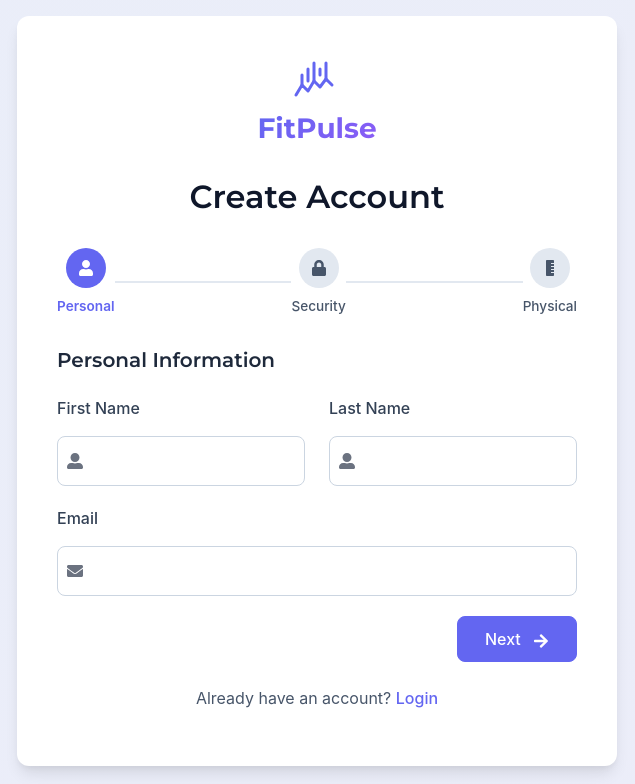
Test case: Register Component › shows password validation error when passwords don't match
The image size is (635, 784).
Note: Fill out step 1
In the field labelled "First Name": [181, 461] box [57,436,305,486], type "John"
In the field labelled "Last Name": [453, 461] box [329,436,577,486], type "Doe"
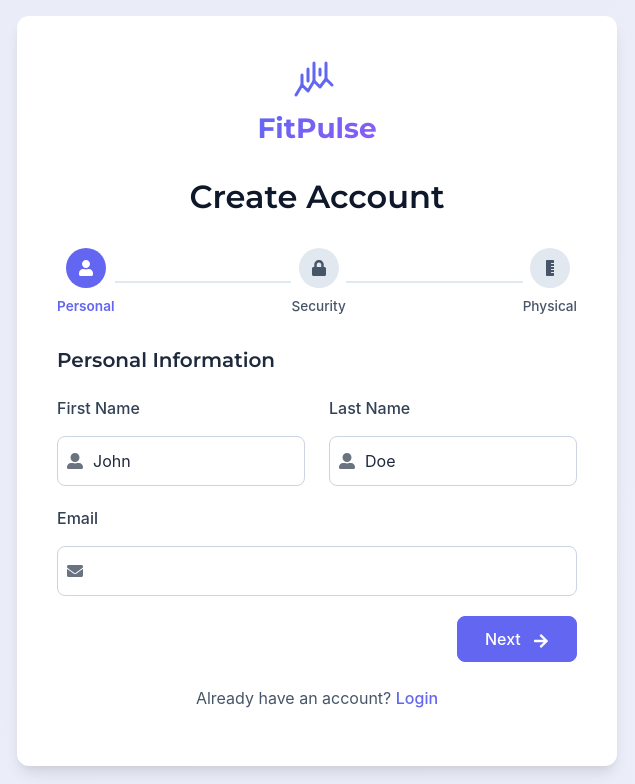
In the field labelled "Email": [317, 571] box [57,546,577,596], type "john@example.com"
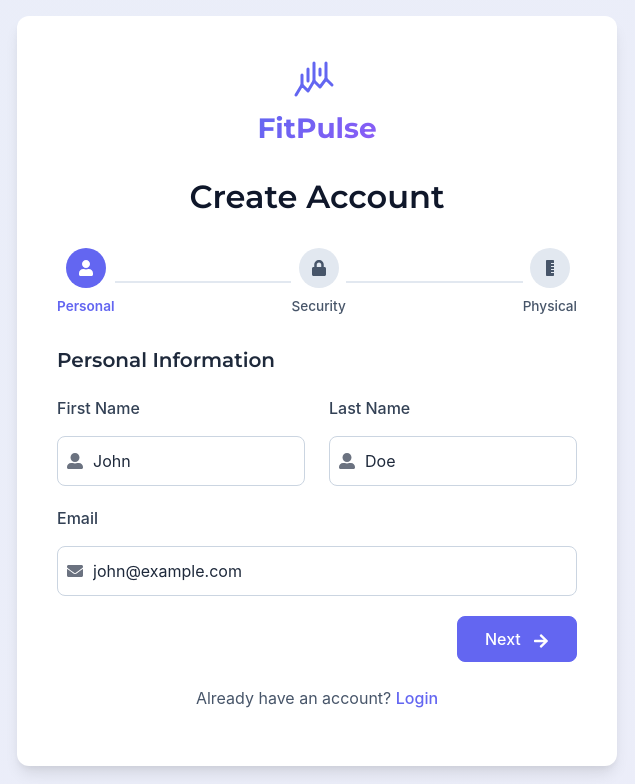
Note: Click next button to go to step 2
Click the button "Next": [517, 639] box [457,616,577,662]
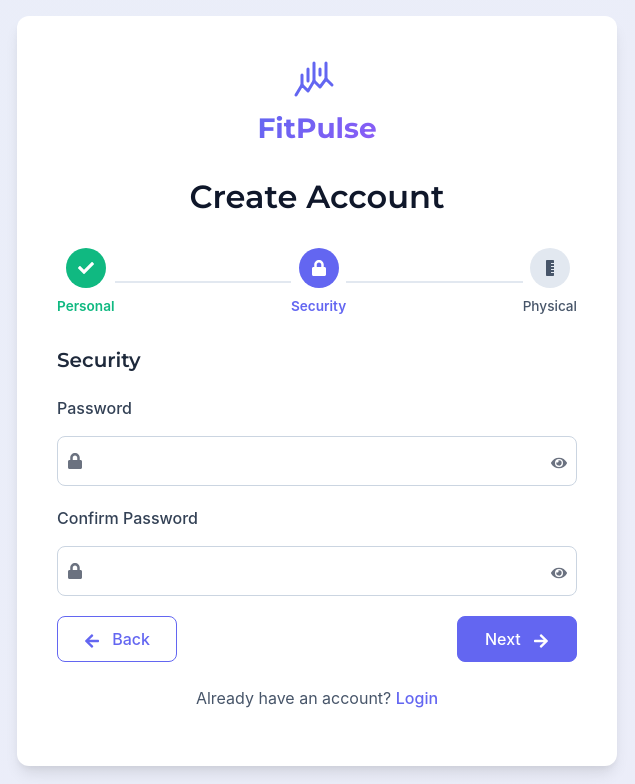
Note: Fill out step 2 with mismatched passwords
In the password field labelled "Password": [317, 461] box [57,436,577,486], type "password123"
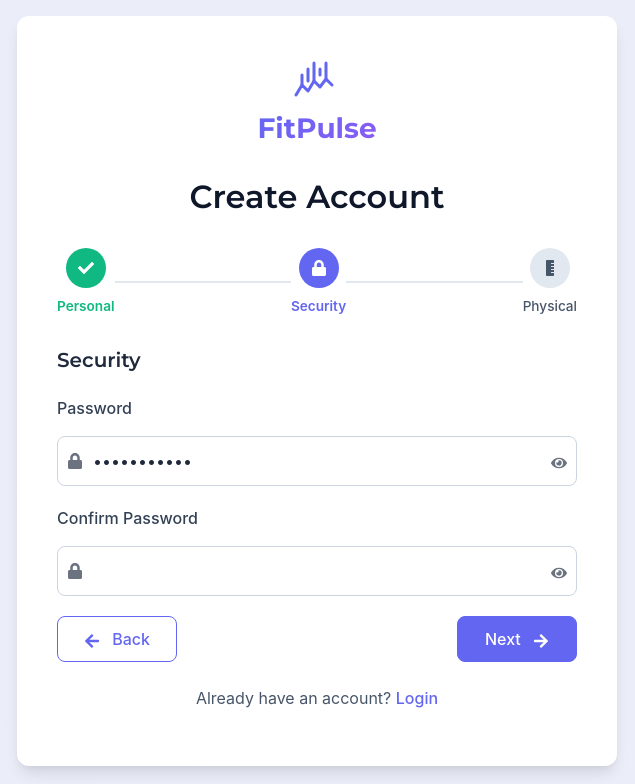
In the password field labelled "Confirm Password": [317, 571] box [57,546,577,596], type "password456"
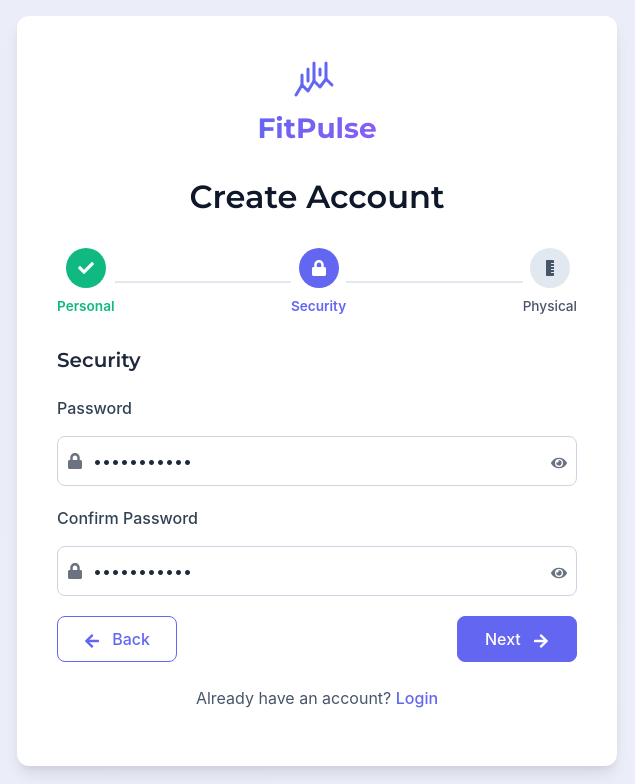
Note: Try to go to step 3
Click the button "Next": [517, 639] box [457,616,577,662]
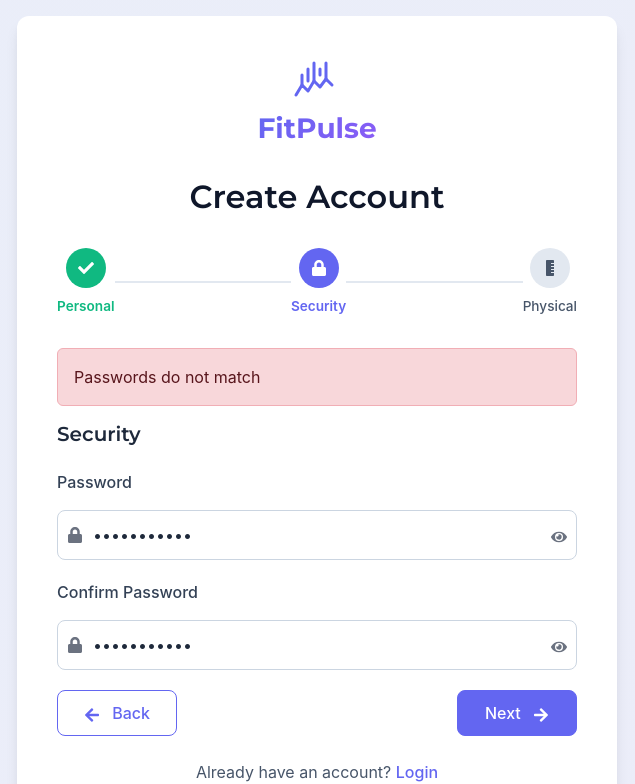
Now the text "Passwords do not match" is shown, box [57,348,577,406]
